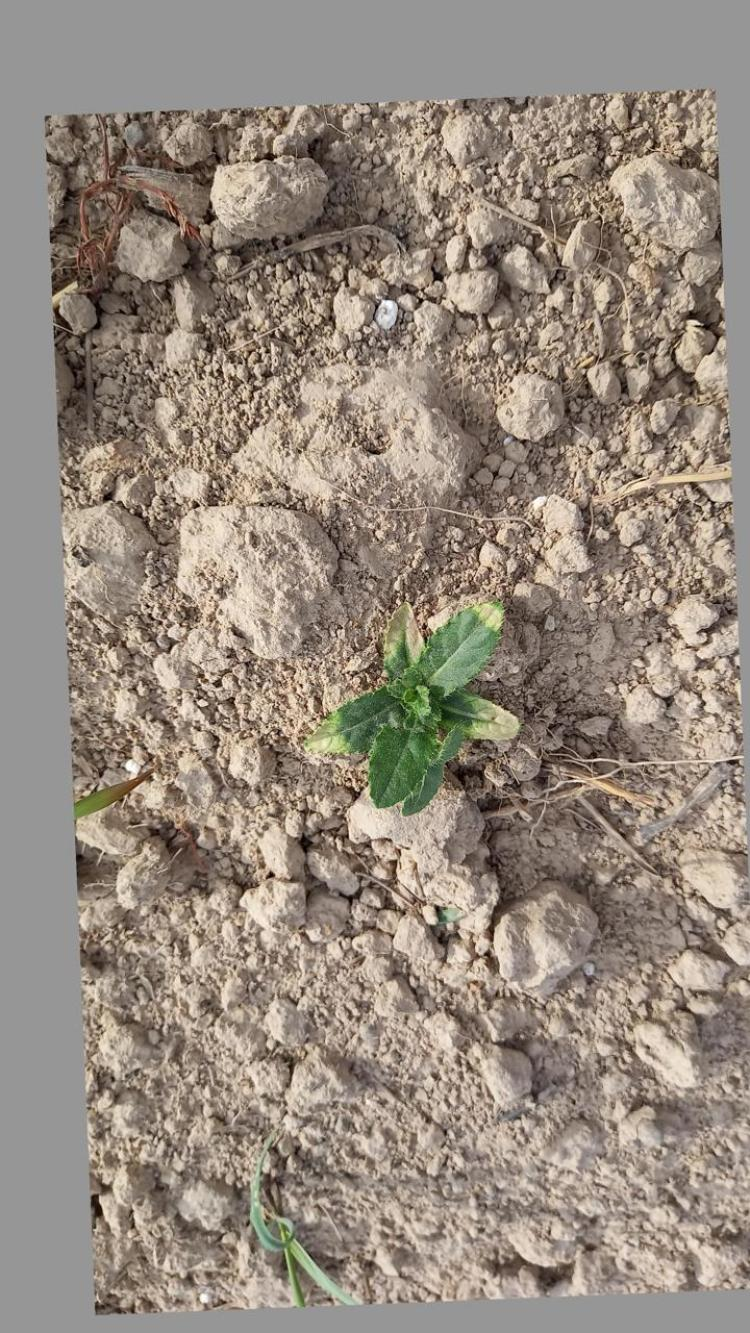bodyak: (313, 598, 529, 808)
